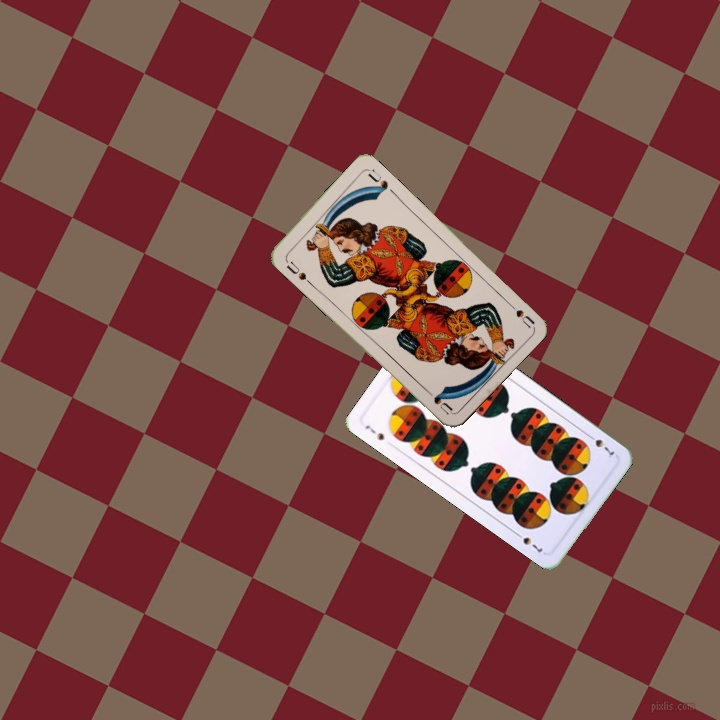S7: (583, 430, 617, 460), (361, 421, 387, 443)
SU: (502, 296, 536, 330), (282, 257, 309, 283)
